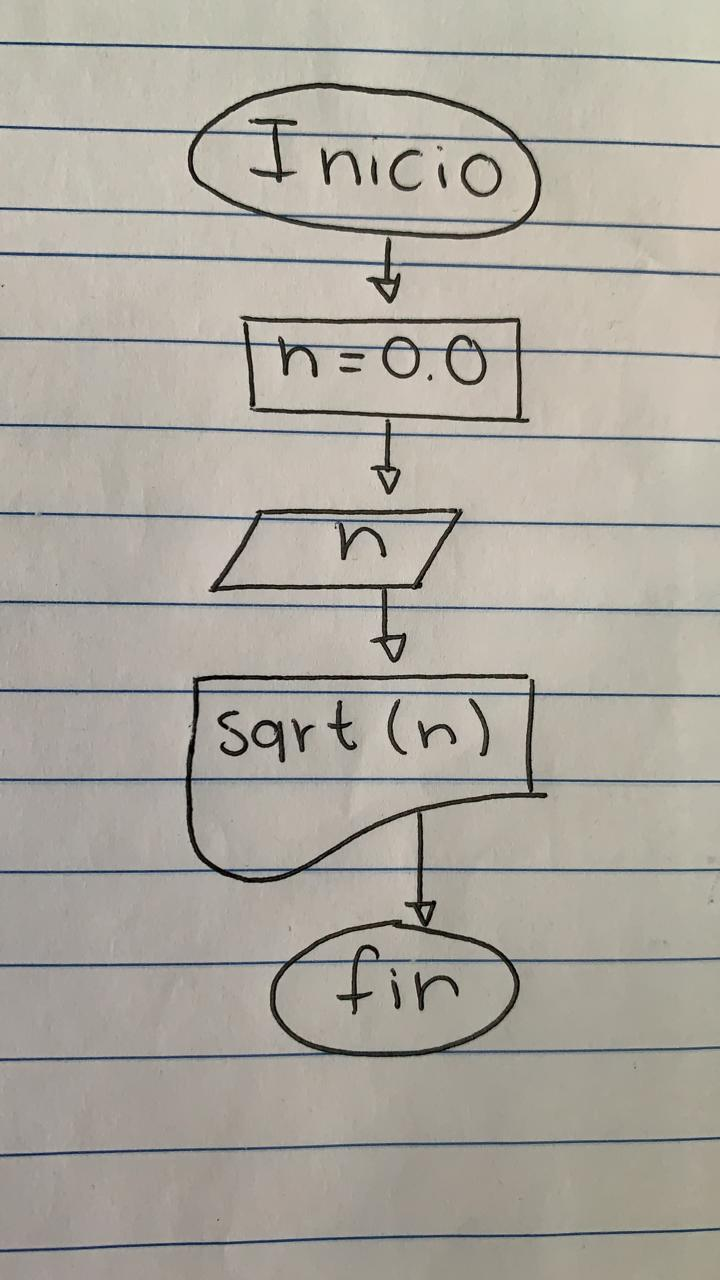arrow_line_down: (355, 413, 417, 508), (363, 579, 420, 675), (399, 806, 442, 931), (365, 229, 417, 317)
print: (167, 665, 545, 886)
process: (232, 302, 538, 433)
scan: (197, 496, 476, 598)
start_end: (170, 77, 547, 242), (263, 915, 536, 1071)
